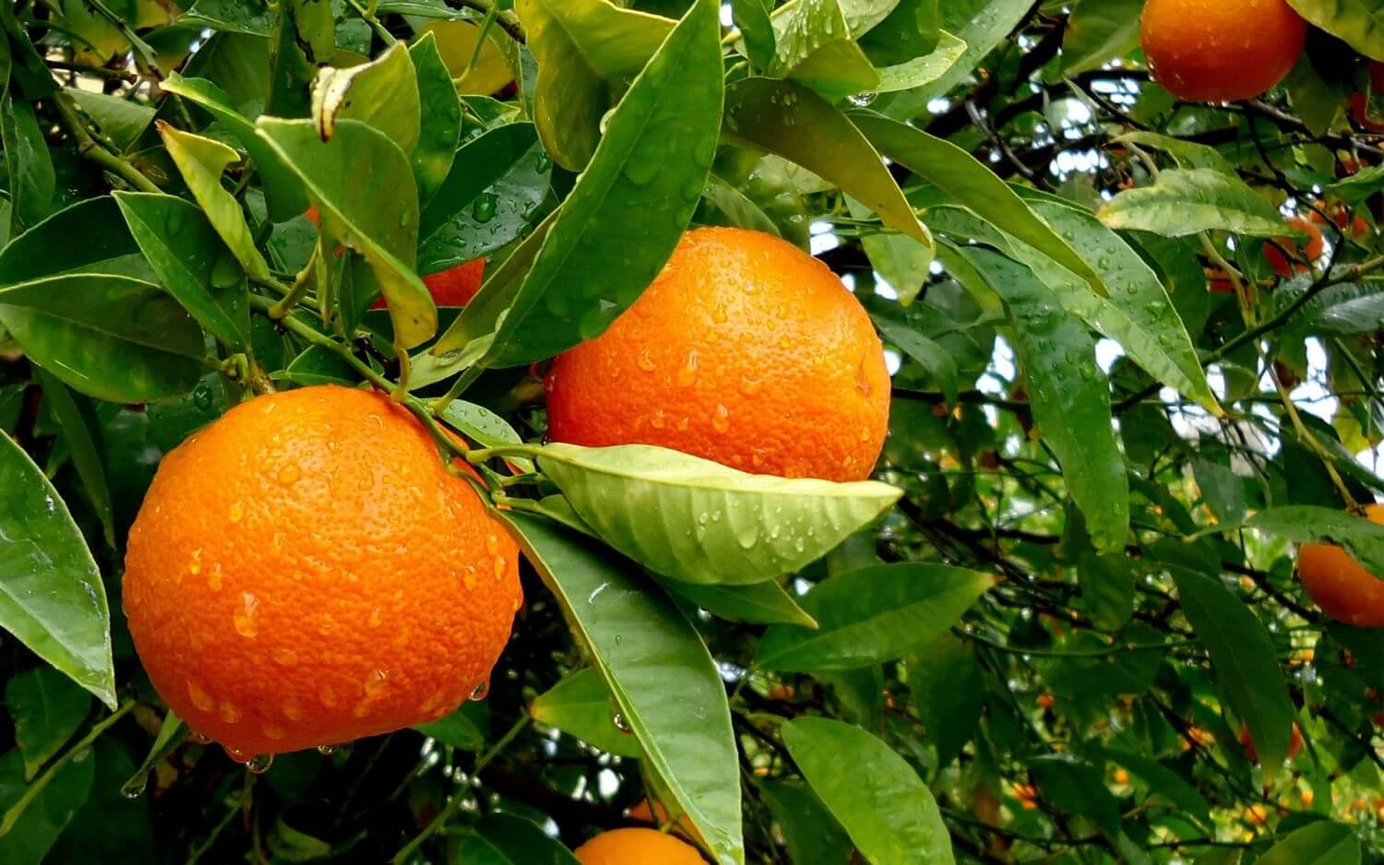Orange: (120, 393, 541, 769), (555, 224, 900, 509), (1140, 0, 1309, 93), (1300, 504, 1384, 621)
